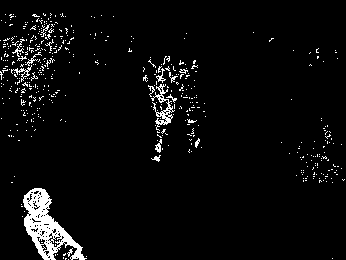person: (23, 182, 85, 260), (153, 84, 176, 164)
